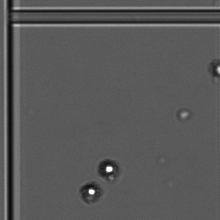Living Cell: (77, 181, 102, 206), (99, 156, 124, 179)
